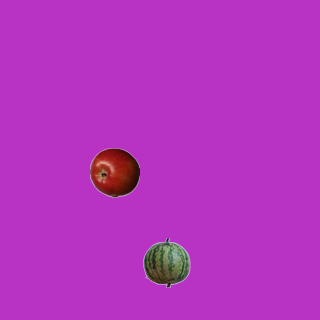Apple Braeburn: (89, 147, 139, 197)
Watermelon: (141, 237, 191, 287)
